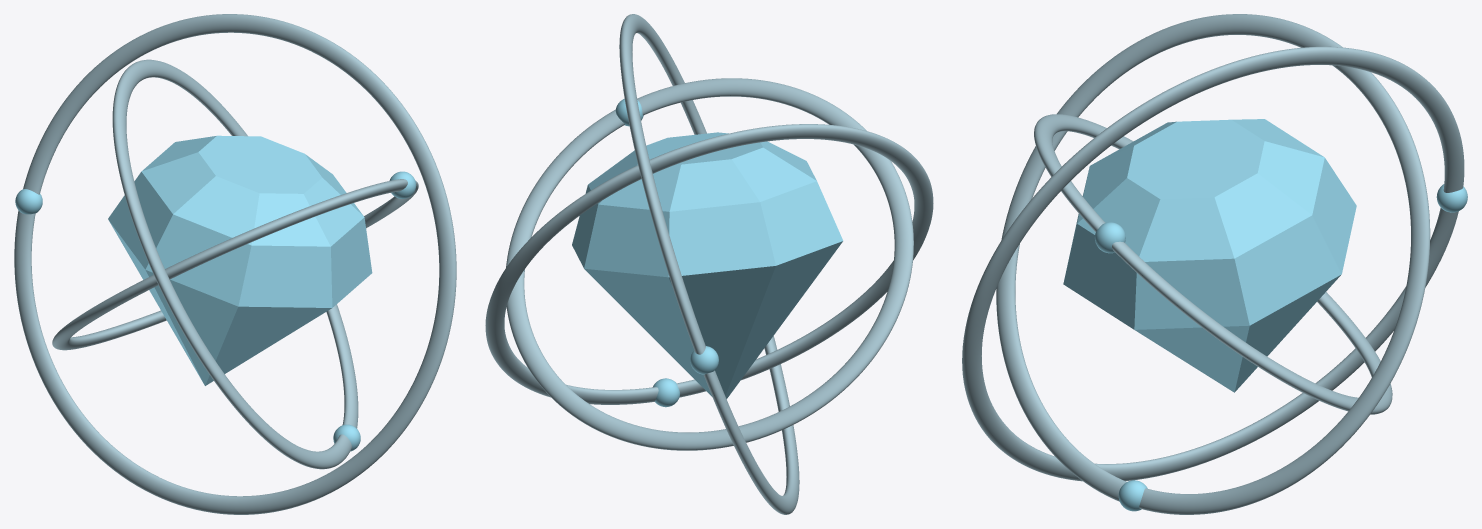
3 views of the same model, side by side, from view 1: azimuth 30°, elevation 25°; view 2: azimuth 150°, elevation 25°; view 3: azimuth 270°, elevation 25° (orthographic). The views are drawn at different scales.
Bounding box in the file's own units: 0.9387 × 1.12 × 1.05.
